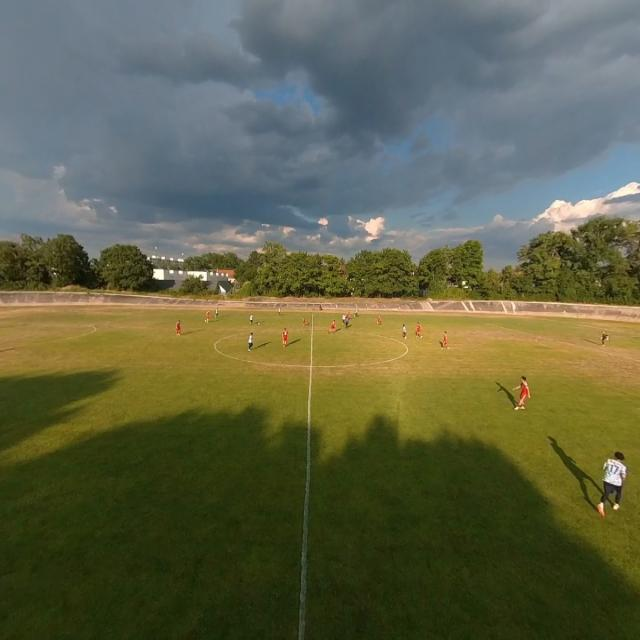ball: (258, 321, 260, 326)
